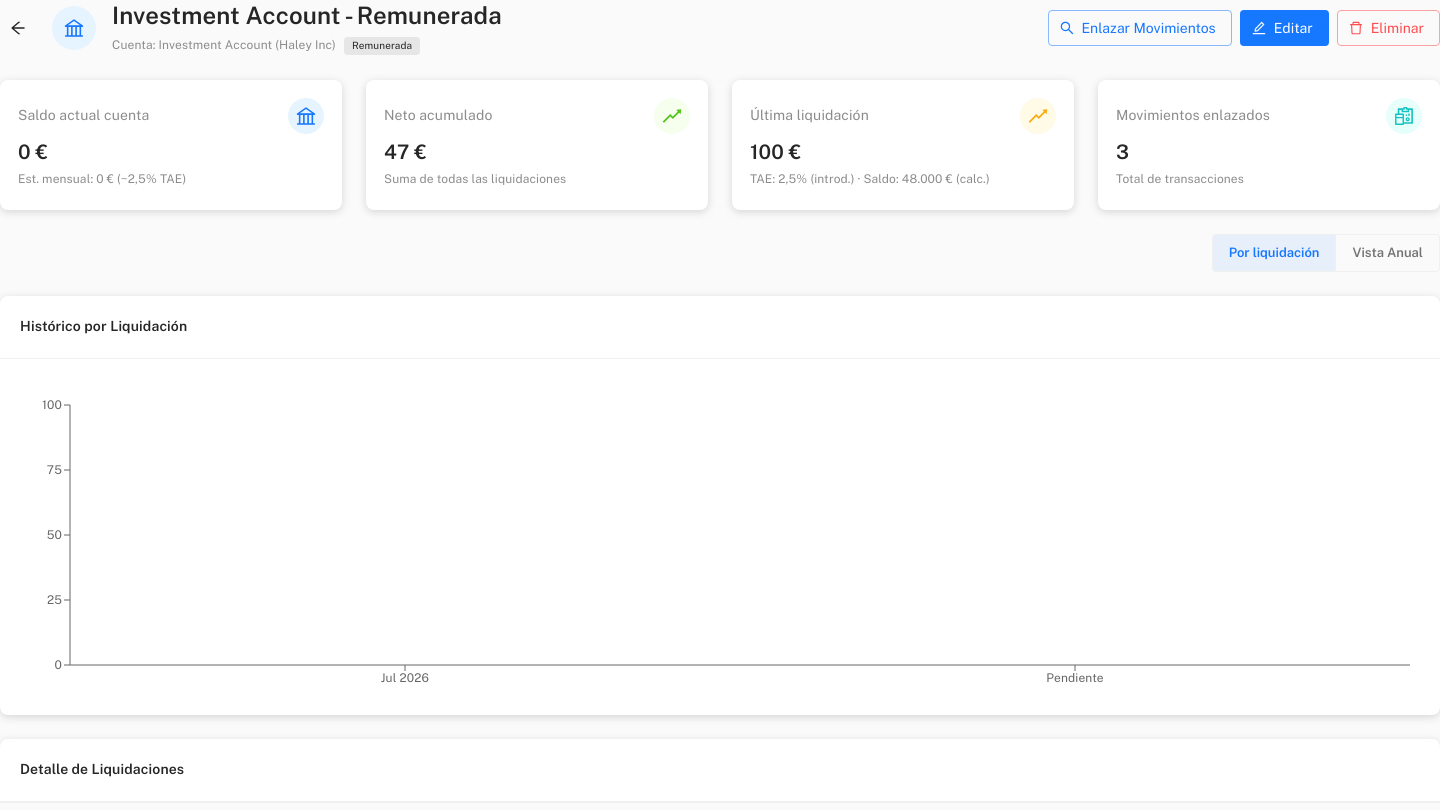
Test: YieldDetail › shows an error and keeps the confirmation modal open when deleting fails
Click the button "Eliminar" at (1388,28), box top-left (1337, 10), bottom-right (1439, 46)
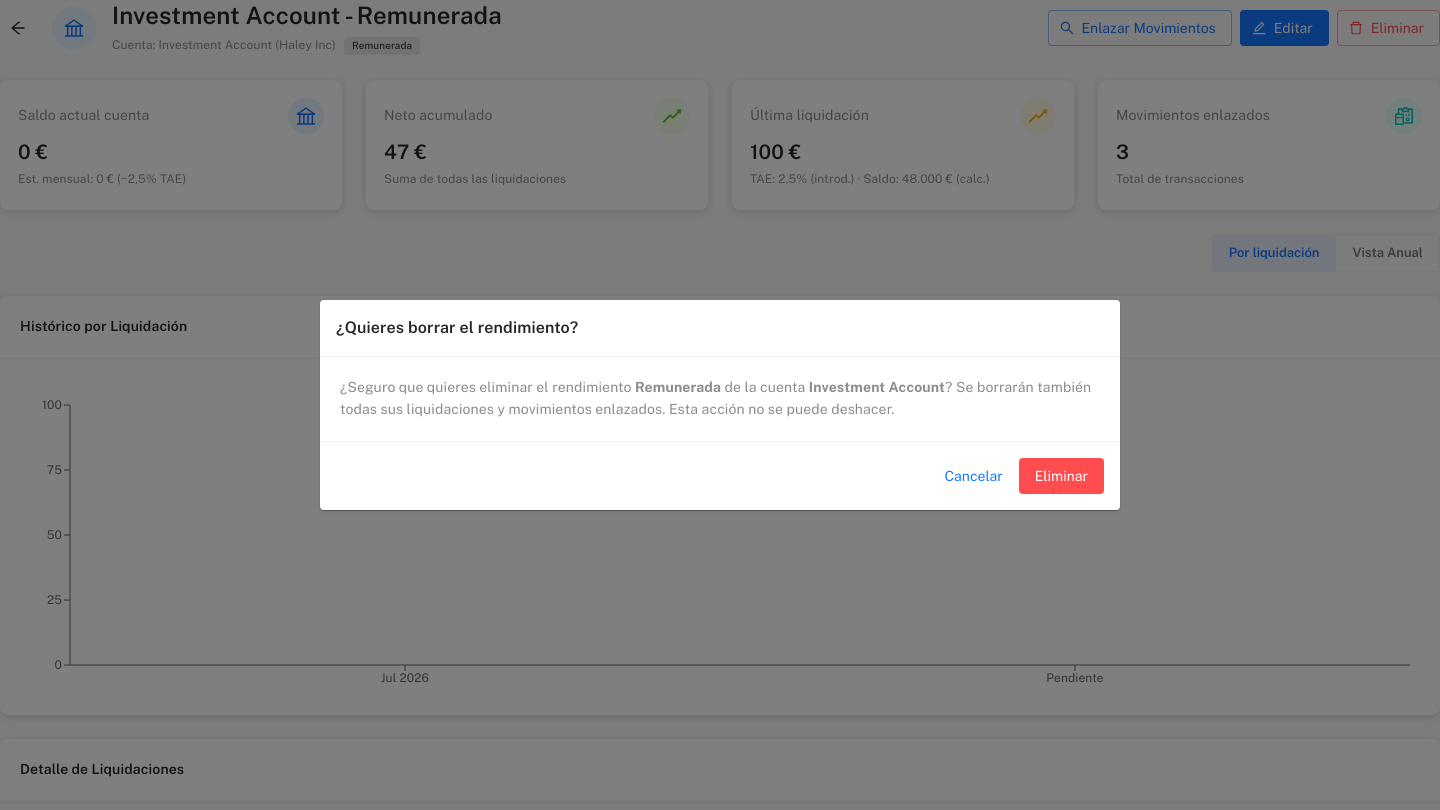
Expected: the text "¿Quieres borrar el rendimiento?" is shown, top-left (336, 318), bottom-right (578, 337)
Click the button "Eliminar" at (1061,476), box top-left (1019, 458), bottom-right (1104, 494)
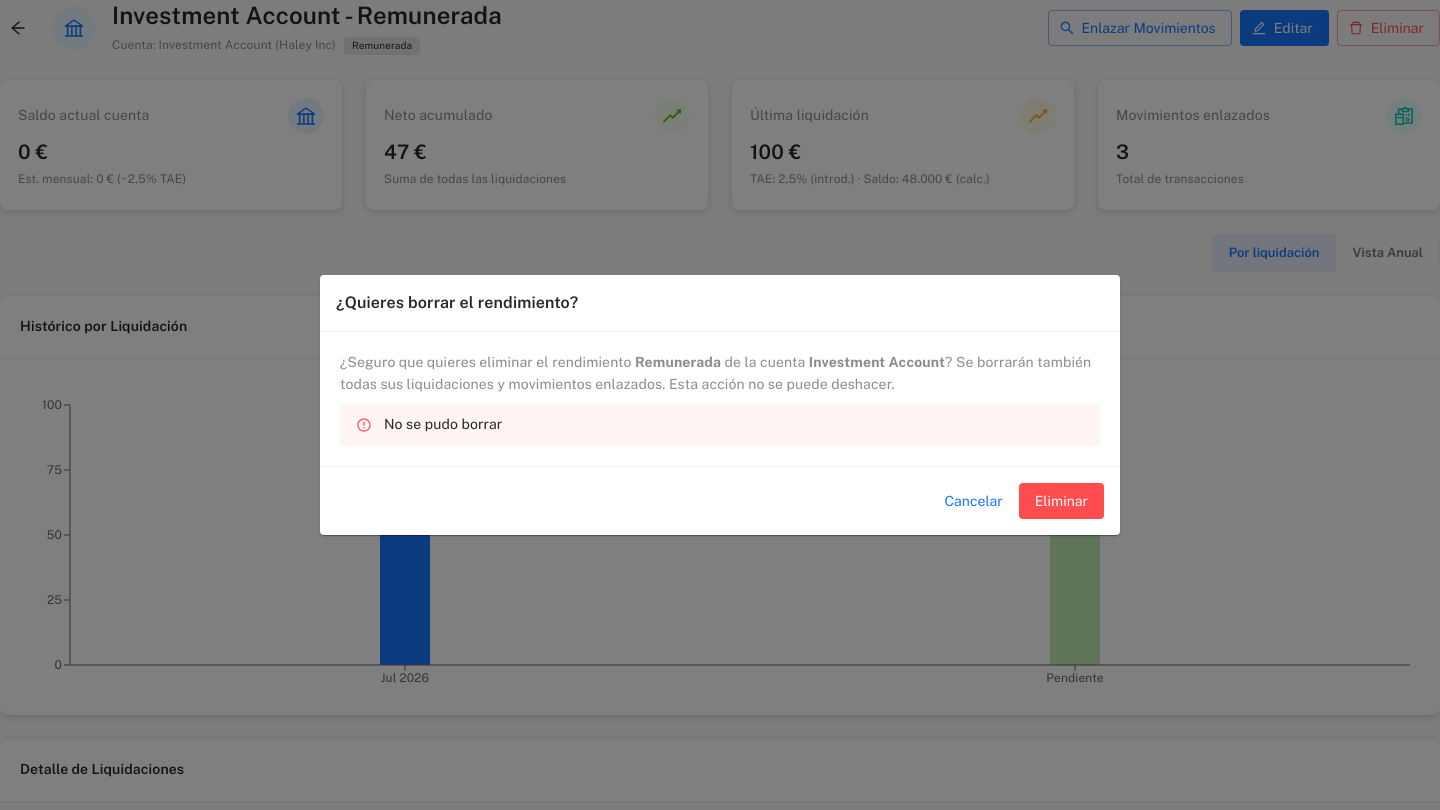
Expected: the text "¿Quieres borrar el rendimiento?" is shown, top-left (336, 293), bottom-right (578, 312)
Expected: the text "No se pudo borrar" is shown, top-left (384, 416), bottom-right (502, 432)
